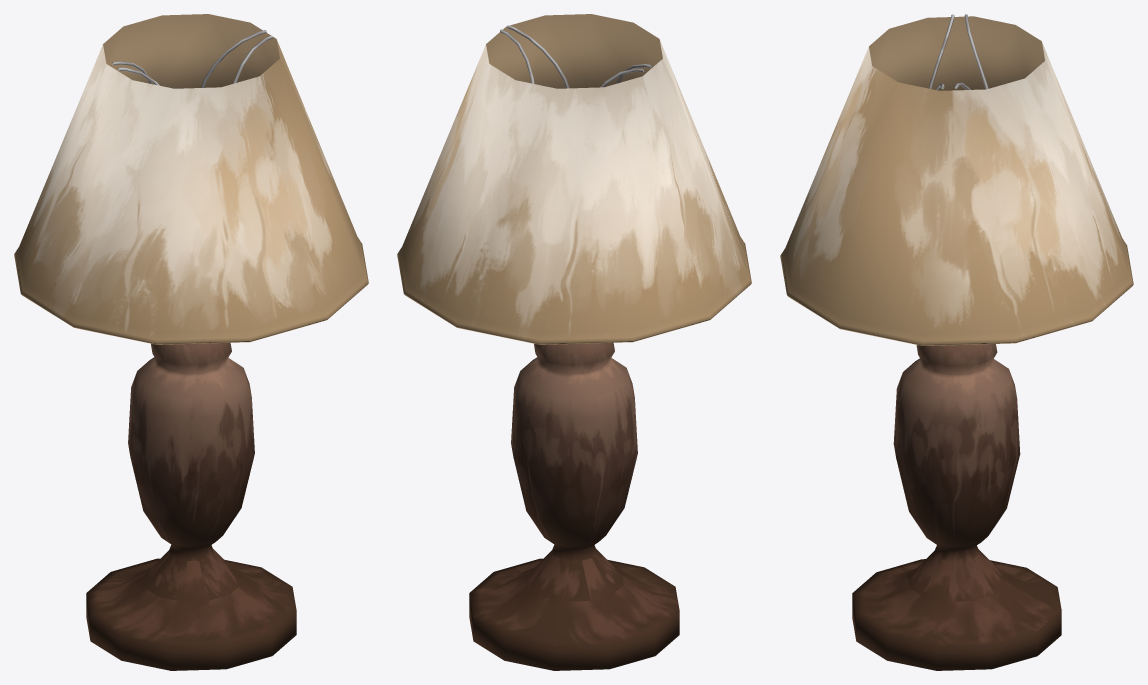
The model's file is StupidLamp_texture.fbx.
3 renders of one model, left to right at view 1: azimuth 30°, elevation 25°; view 2: azimuth 150°, elevation 25°; view 3: azimuth 270°, elevation 25°, orthographic.
Parts seen in each view (by area): view 1: lampe; view 2: lampe; view 3: lampe.
Boxes of the visible parts, bbox=[...] form: lampe: bbox=[14, 14, 368, 670]; lampe: bbox=[397, 14, 751, 670]; lampe: bbox=[780, 14, 1133, 670].
Size of the model in its own units: 35.66 by 64.37 by 35.66.
Materials: 1 (1 with a texture image).
